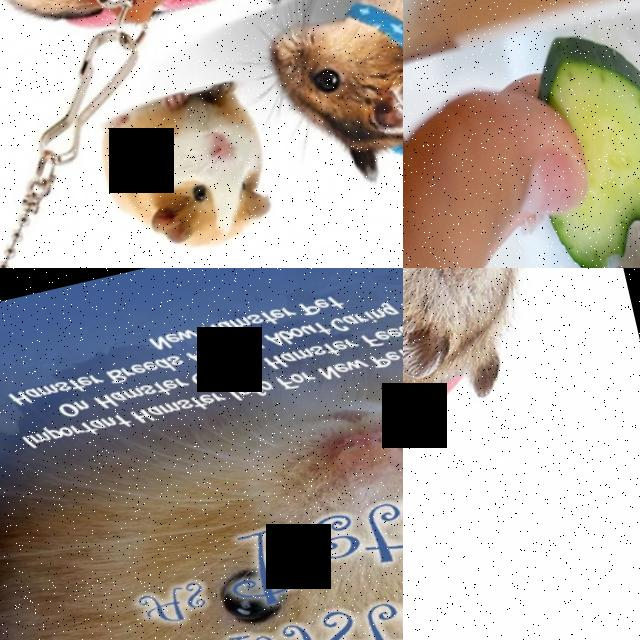hamster: (481, 0, 640, 268), (403, 268, 570, 489), (251, 0, 403, 199), (0, 0, 374, 74)
